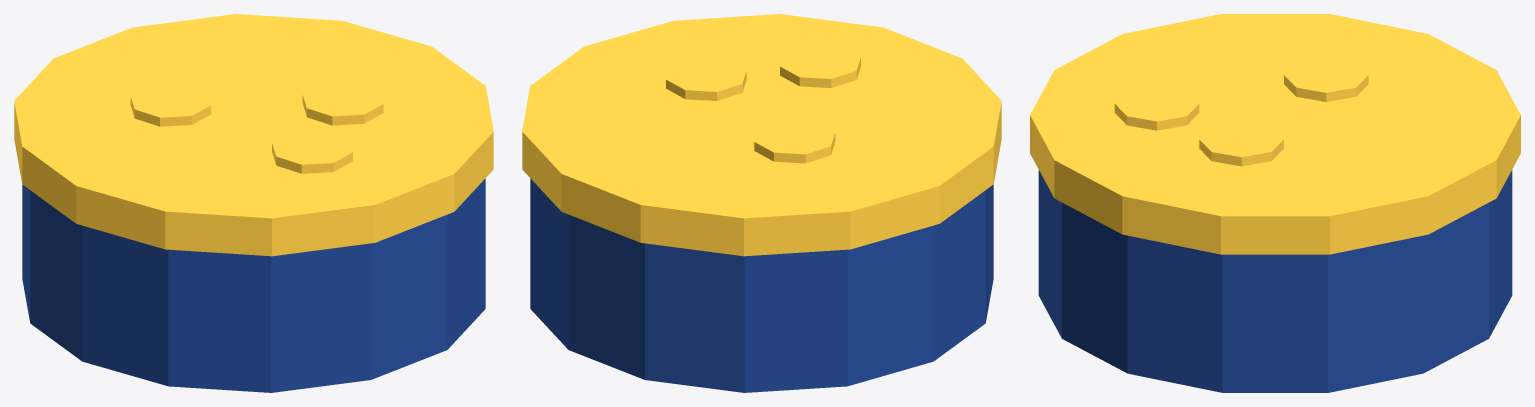
File: cash_tin.glb
The picture shows the model from 3 angles, left to right: view 1: azimuth 30°, elevation 25°; view 2: azimuth 150°, elevation 25°; view 3: azimuth 270°, elevation 25°; orthographic projection.
Parts seen in each view (by area): view 1: tin_gold, tin_tin_blue, coins_gold; view 2: tin_gold, tin_tin_blue, coins_gold; view 3: tin_gold, tin_tin_blue, coins_gold.
Boxes of the visible parts, box(x1,y1,x2,y2) form: tin_gold: box(14, 14, 493, 256); tin_tin_blue: box(22, 178, 485, 392); coins_gold: box(130, 82, 383, 173); tin_gold: box(522, 14, 1001, 256); tin_tin_blue: box(530, 178, 993, 392); coins_gold: box(666, 45, 860, 163); tin_gold: box(1030, 14, 1520, 254); tin_tin_blue: box(1038, 170, 1512, 392); coins_gold: box(1114, 57, 1368, 166).
Bounding box in the file's own units: 0.2827 × 0.125 × 0.29.
